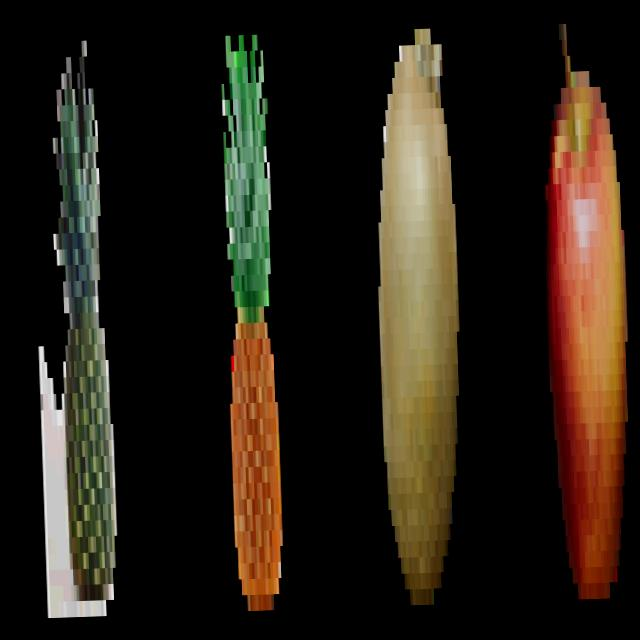apple: (534, 12, 640, 610)
kiwifruit: (363, 8, 472, 619)
pineapples: (210, 24, 288, 626), (46, 34, 116, 623)
